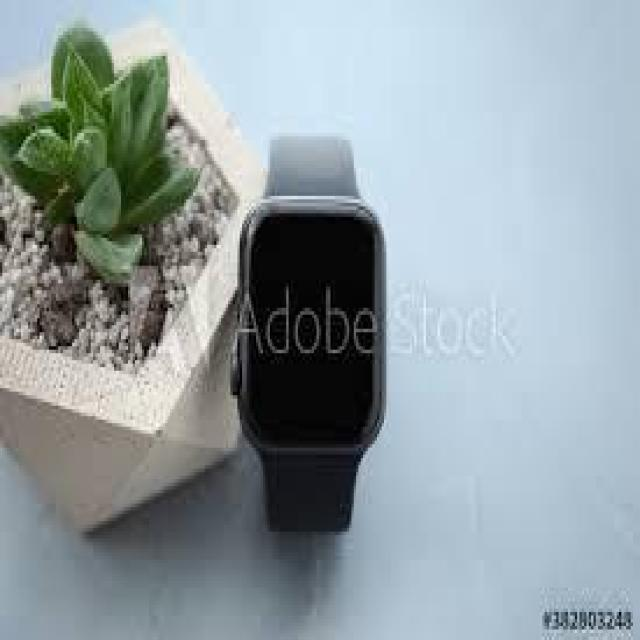watch: (215, 87, 407, 574)
